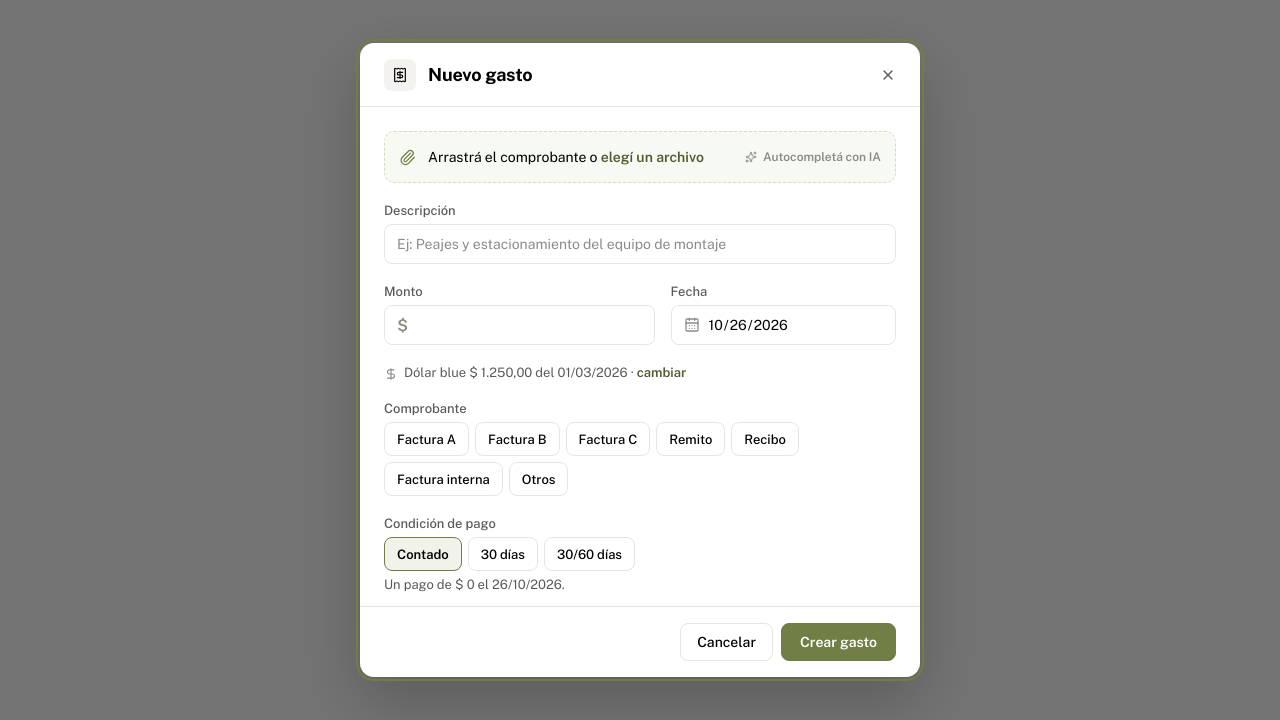
Test case: smoke de modales › un gasto nuevo precarga la cotización sugerida del día
Expected: the text "Dólar blue $ 1.250,00 del 01/03/2026 · cambiar" is shown, left=404, top=365, right=686, bottom=380
Click the button "cambiar".
click(661, 373)  # box left=637, top=365, right=686, bottom=380
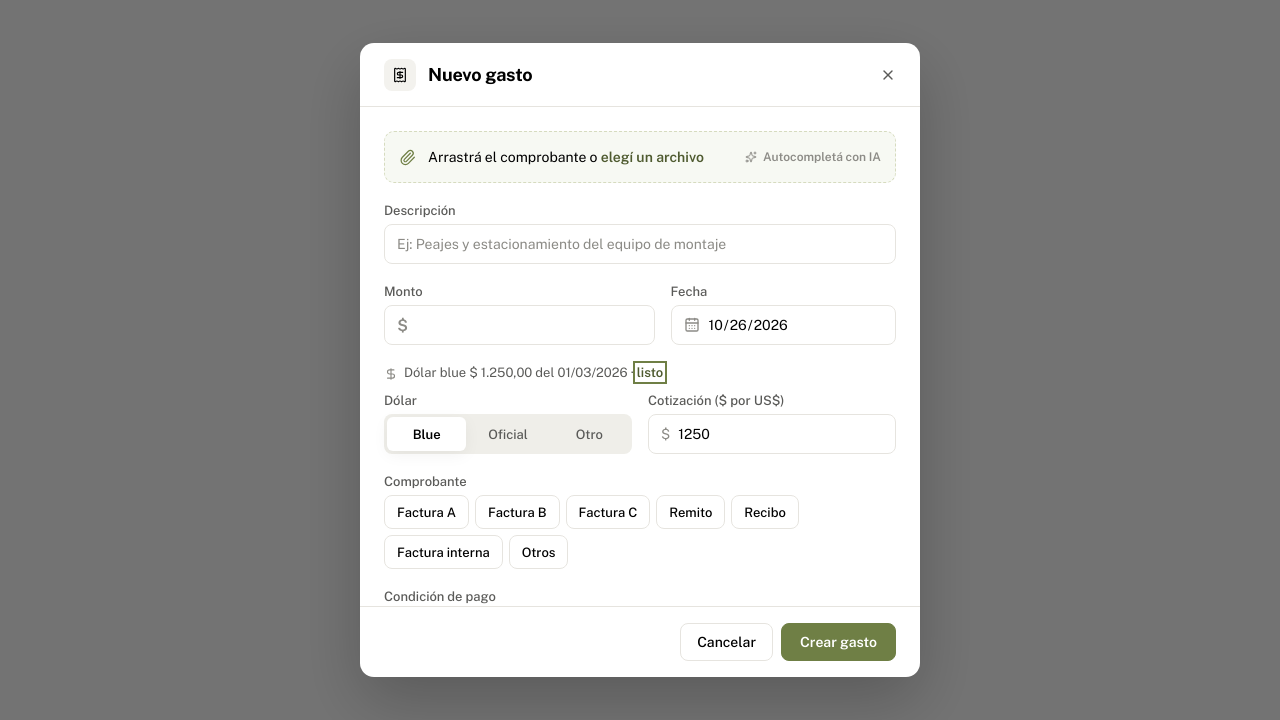
Result: the number field named "cotizacion_dolar" holds "1250" at left=678, top=415, right=883, bottom=453
